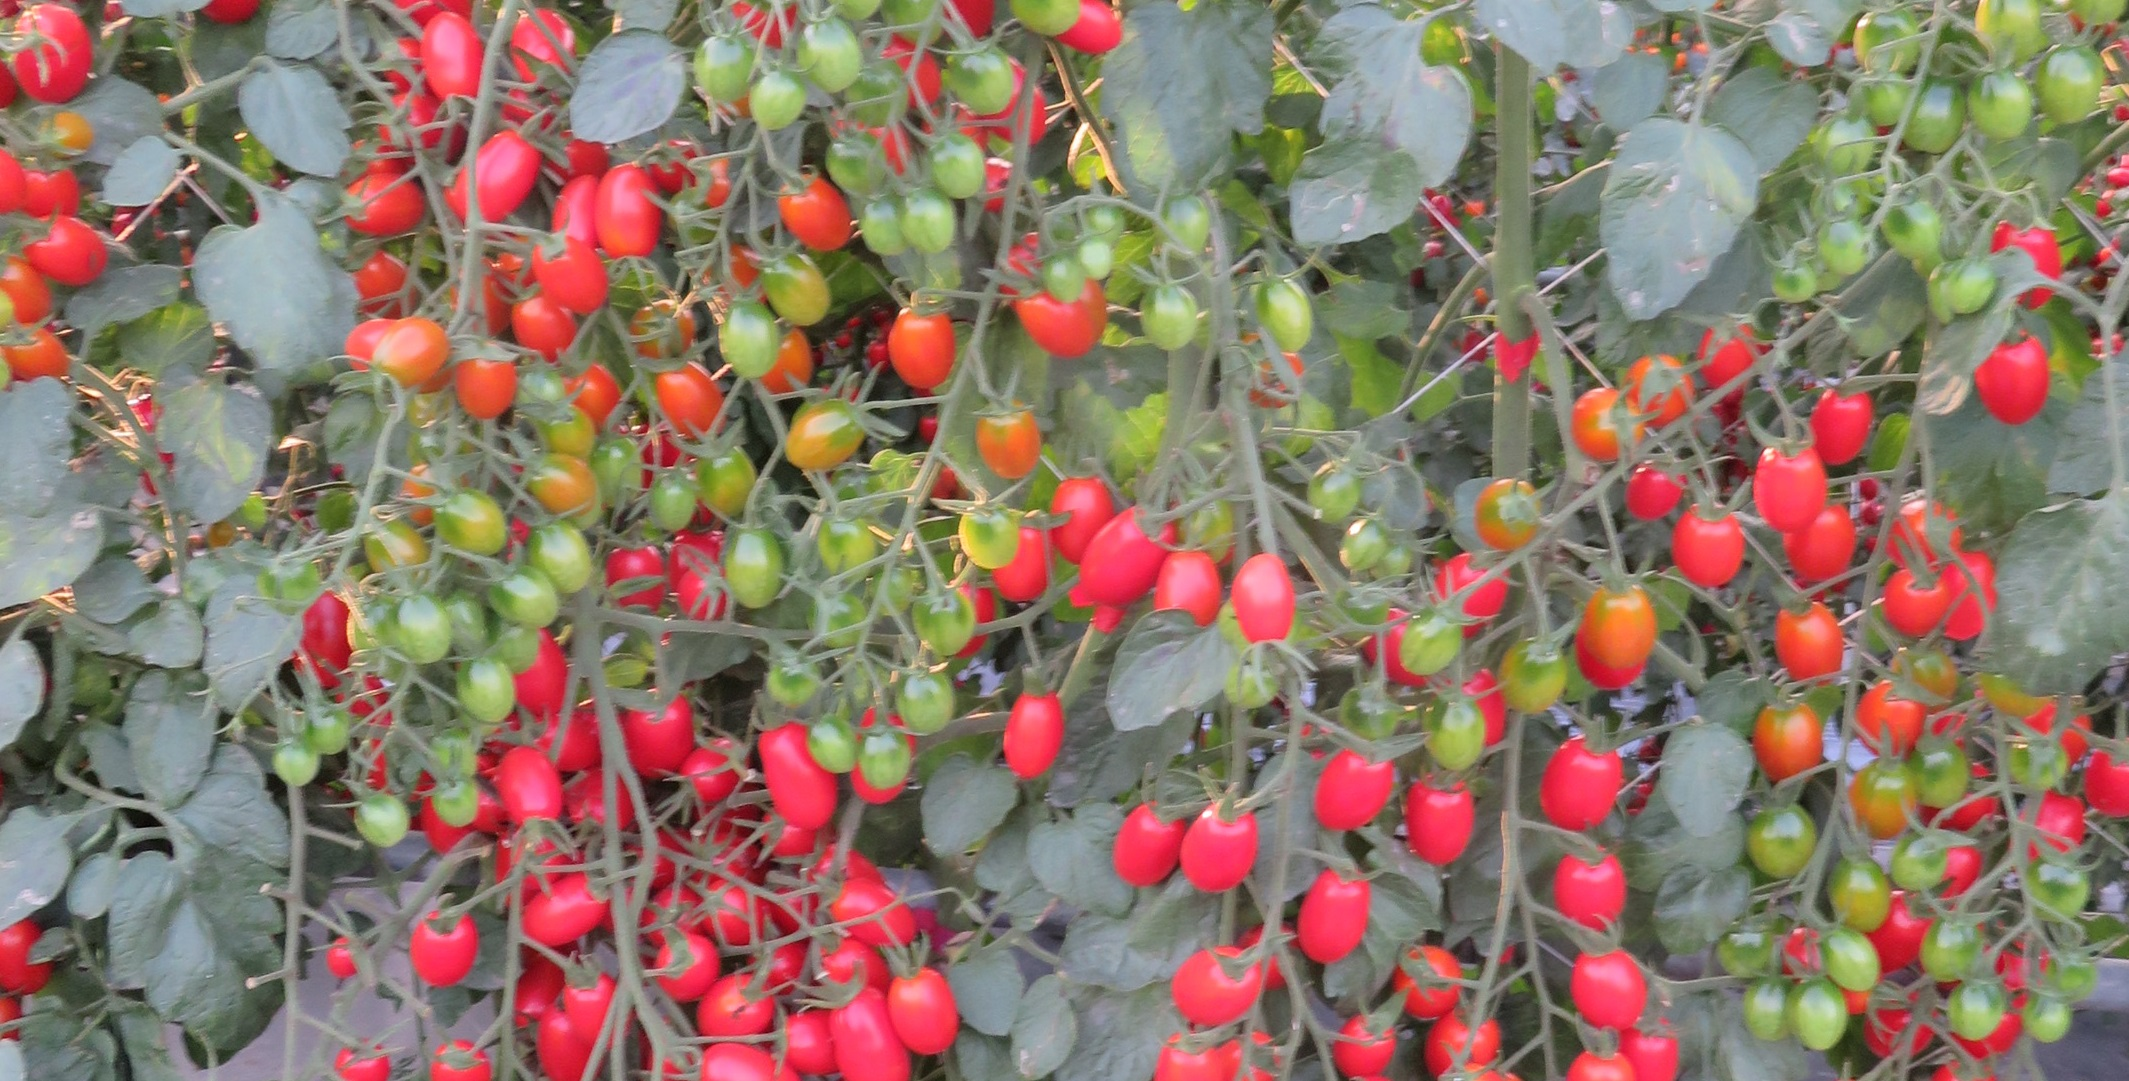green: (923, 52, 1018, 125), (689, 28, 757, 120), (2039, 52, 2114, 135), (1248, 274, 1321, 357), (712, 528, 787, 607), (1921, 258, 2002, 330), (914, 128, 989, 203), (1399, 607, 1481, 674), (1913, 911, 1982, 989), (761, 252, 835, 323), (371, 592, 455, 654), (796, 21, 865, 95), (1497, 647, 1565, 716), (1969, 79, 2039, 146), (1830, 858, 1893, 932), (1142, 279, 1202, 357), (1880, 197, 1946, 267), (717, 307, 780, 381), (1304, 455, 1368, 525), (1421, 695, 1484, 767), (586, 437, 645, 512), (894, 188, 962, 252), (914, 586, 977, 654), (435, 489, 510, 546), (460, 656, 526, 720), (358, 520, 424, 583), (1907, 83, 1964, 156), (254, 558, 325, 615), (748, 72, 812, 135), (1946, 980, 2010, 1042), (959, 505, 1021, 569), (898, 667, 956, 736), (544, 524, 597, 600), (1824, 927, 1881, 996), (1739, 978, 1801, 1040), (1749, 808, 1811, 869), (1849, 765, 1909, 827), (858, 729, 920, 789), (1811, 216, 1874, 274), (488, 564, 559, 615), (2005, 739, 2073, 791), (1339, 687, 1401, 743), (1886, 837, 1948, 893), (1914, 739, 1969, 802), (644, 472, 699, 535), (805, 718, 863, 778), (351, 791, 412, 848), (1796, 980, 1845, 1049), (806, 592, 868, 647), (751, 811, 820, 860), (812, 524, 881, 572), (649, 882, 706, 940), (2019, 989, 2079, 1042), (831, 149, 892, 203), (1339, 507, 1384, 579), (269, 738, 329, 789), (1180, 489, 1232, 547), (2031, 865, 2088, 917), (690, 461, 752, 507), (858, 203, 905, 263), (1006, 1, 1080, 39), (431, 727, 480, 778), (1169, 204, 1217, 254), (769, 674, 821, 720), (435, 780, 481, 831), (497, 625, 553, 663), (1768, 266, 1820, 301), (1046, 265, 1084, 306), (303, 717, 351, 746), (1377, 558, 1410, 590), (1087, 245, 1113, 281)
orange: (1574, 592, 1655, 692), (21, 212, 109, 288), (881, 307, 955, 392), (831, 877, 916, 950), (1888, 496, 1962, 576), (777, 172, 850, 251), (781, 400, 863, 469), (655, 358, 725, 434), (561, 978, 631, 1051), (1570, 385, 1637, 461), (1476, 476, 1543, 552), (976, 408, 1043, 478), (371, 328, 460, 378), (1855, 683, 1925, 745), (1632, 354, 1695, 421), (1760, 707, 1816, 780), (536, 455, 599, 520), (630, 299, 695, 363), (4, 321, 69, 383), (1785, 614, 1844, 678), (1893, 648, 1958, 706), (455, 357, 510, 425), (762, 332, 816, 394), (536, 407, 595, 461), (568, 370, 621, 427), (36, 113, 95, 161)
red: (1076, 507, 1180, 611), (1162, 808, 1266, 900), (10, 1, 96, 108), (1541, 736, 1623, 829), (1991, 216, 2064, 314), (1294, 876, 1371, 968), (1171, 951, 1266, 1024), (1306, 750, 1395, 829), (1401, 785, 1485, 865), (1749, 454, 1829, 536), (1670, 510, 1749, 593), (885, 968, 960, 1053), (373, 91, 464, 161), (1567, 946, 1652, 1020), (1231, 549, 1298, 643), (1434, 552, 1512, 632), (520, 878, 610, 946), (531, 237, 610, 313), (1982, 347, 2053, 432), (1109, 814, 1196, 882), (475, 127, 542, 216), (408, 906, 480, 989), (595, 170, 659, 261), (508, 6, 576, 90), (492, 747, 565, 825), (1553, 848, 1625, 927), (699, 975, 781, 1042), (295, 592, 350, 692), (1390, 944, 1463, 1020), (420, 12, 482, 101), (1933, 552, 1994, 641), (821, 1002, 889, 1081), (1155, 552, 1220, 633), (340, 172, 424, 234), (1051, 478, 1116, 558), (1003, 698, 1067, 778), (1425, 1007, 1498, 1073), (346, 250, 420, 314), (1811, 392, 1874, 467), (703, 878, 772, 947), (762, 732, 816, 820), (701, 878, 766, 946), (510, 298, 579, 361), (679, 739, 750, 800), (631, 705, 699, 767), (1333, 1011, 1397, 1074), (1, 917, 52, 996), (1789, 523, 1859, 579), (995, 529, 1047, 605), (17, 159, 80, 221), (546, 125, 612, 183), (1623, 467, 1692, 523), (535, 1005, 584, 1081), (540, 711, 598, 774), (1153, 1035, 1224, 1081), (2033, 798, 2095, 849), (701, 1041, 776, 1081), (655, 947, 714, 996), (1069, 1, 1123, 54), (513, 370, 566, 421), (1880, 586, 1942, 629), (2082, 761, 2129, 818), (431, 1040, 493, 1081), (333, 1041, 394, 1081), (194, 1, 266, 30), (325, 935, 368, 978), (1627, 1035, 1667, 1081), (2108, 168, 2129, 185)
